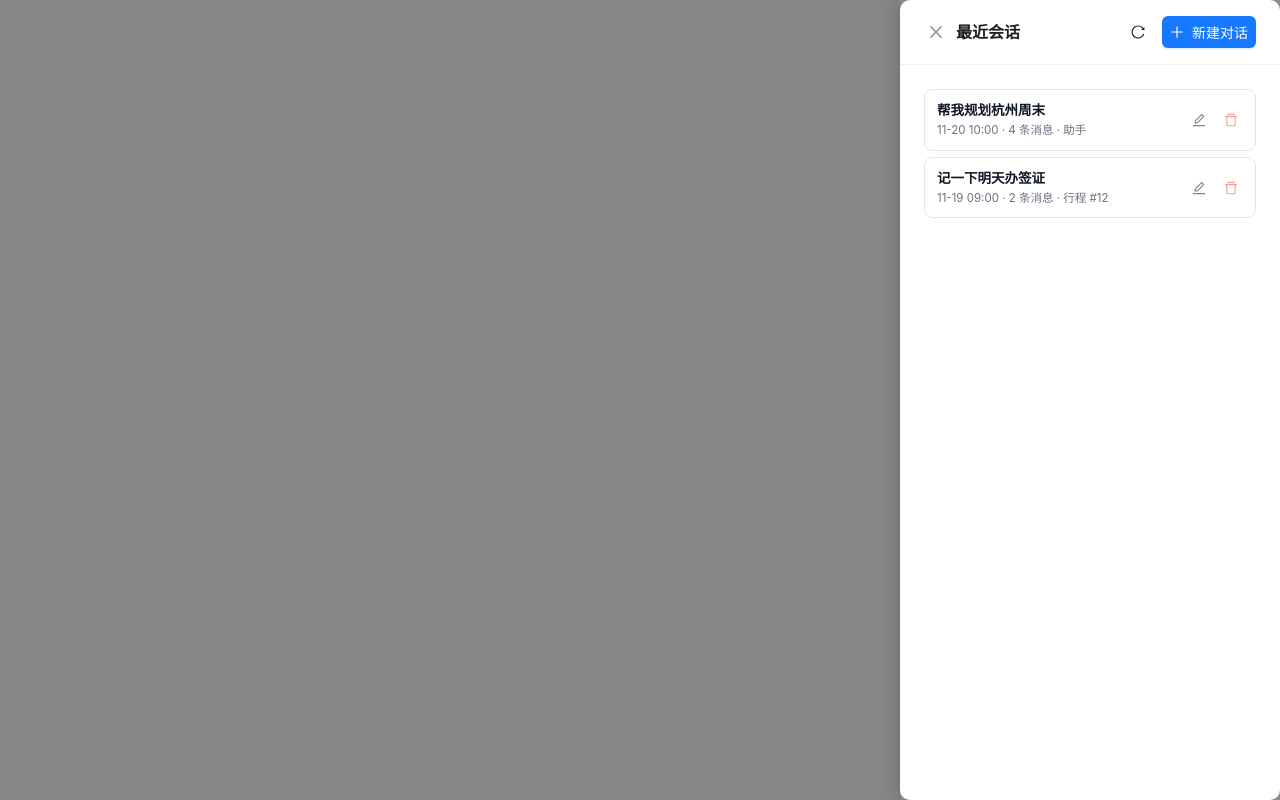
Test: ConversationDrawer · 改名与删除（V23） › 改名：内联输入 → 保存后按服务端结果重新拉列表
Click the button named "重命名「帮我规划杭州周末」".
click(1199, 120)  # box [1183,104,1215,136]
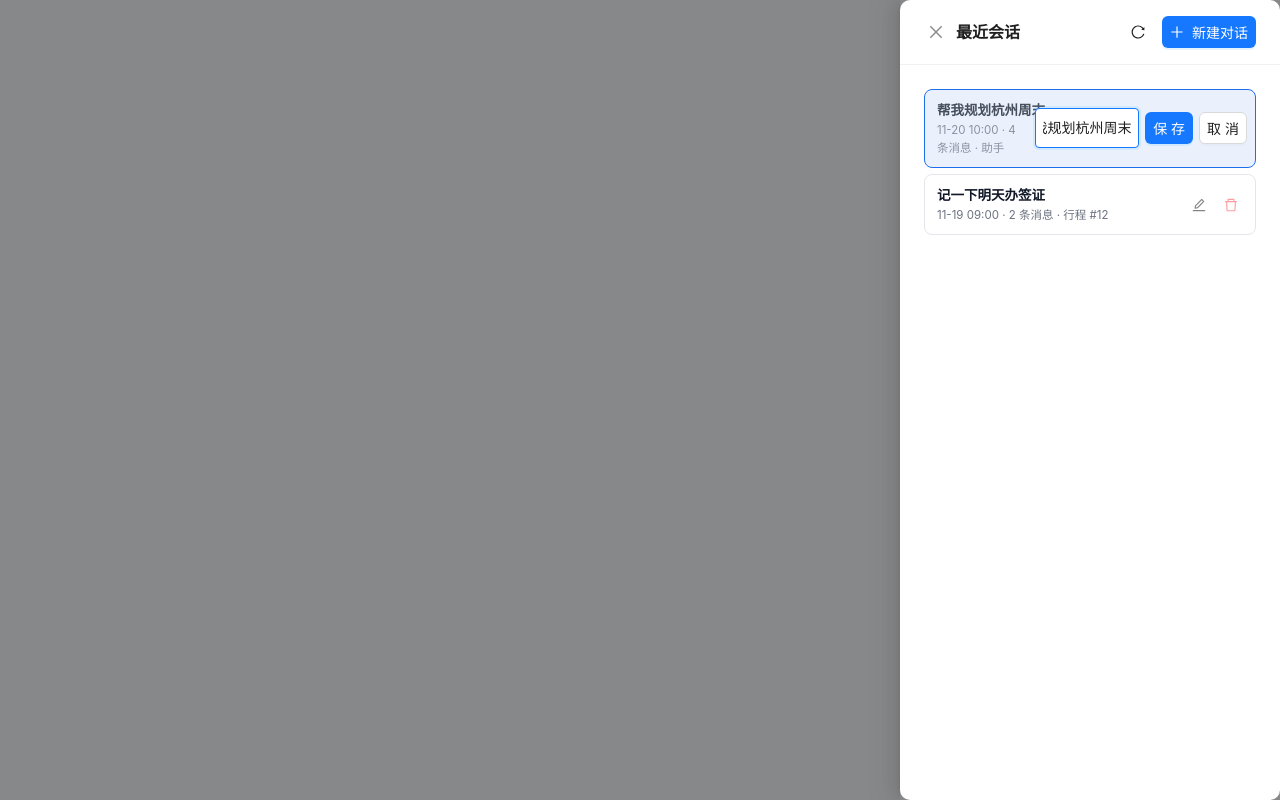
Expected: the field named "会话名称" holds "帮我规划杭州周末"
Replace the text in the field named "会话名称" with "杭州两日游" at [1087, 128], box [1035,108,1139,148]
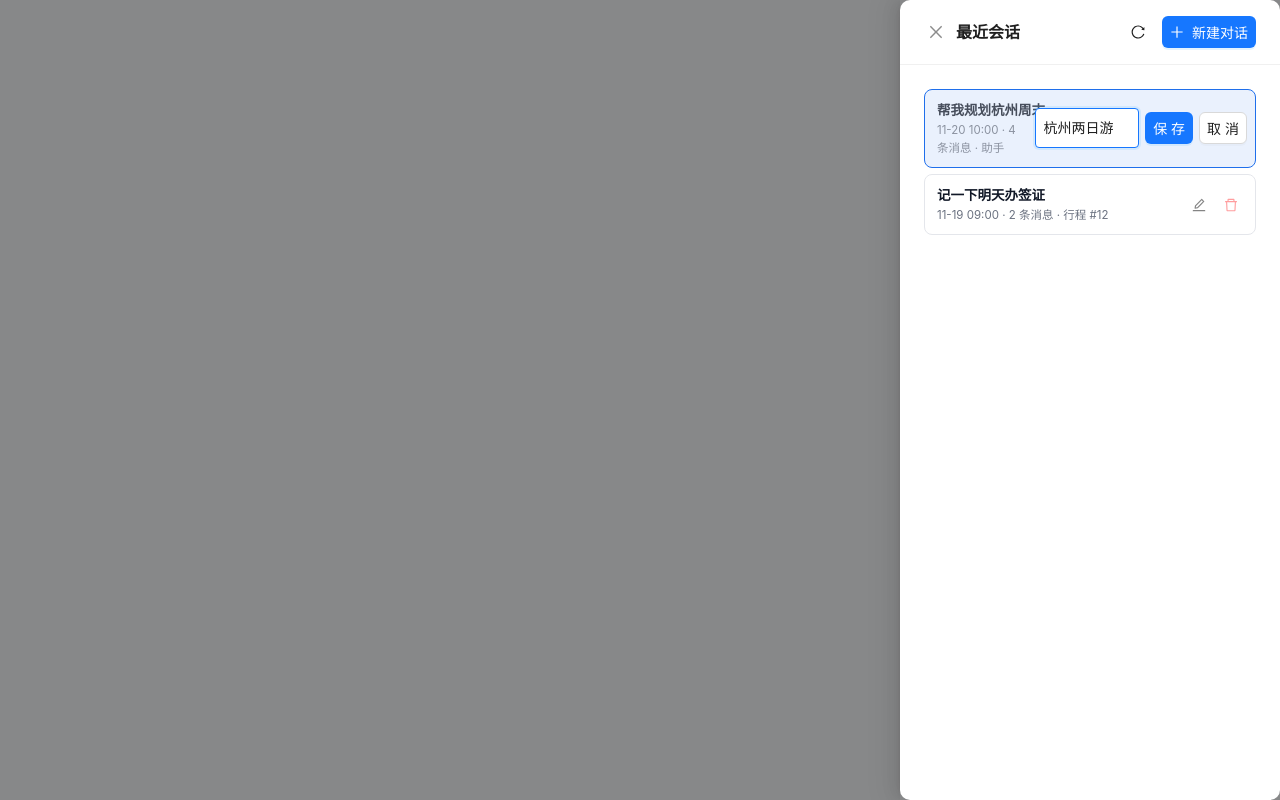
Click the button "保 存".
click(1169, 128)  # box [1145,112,1193,144]
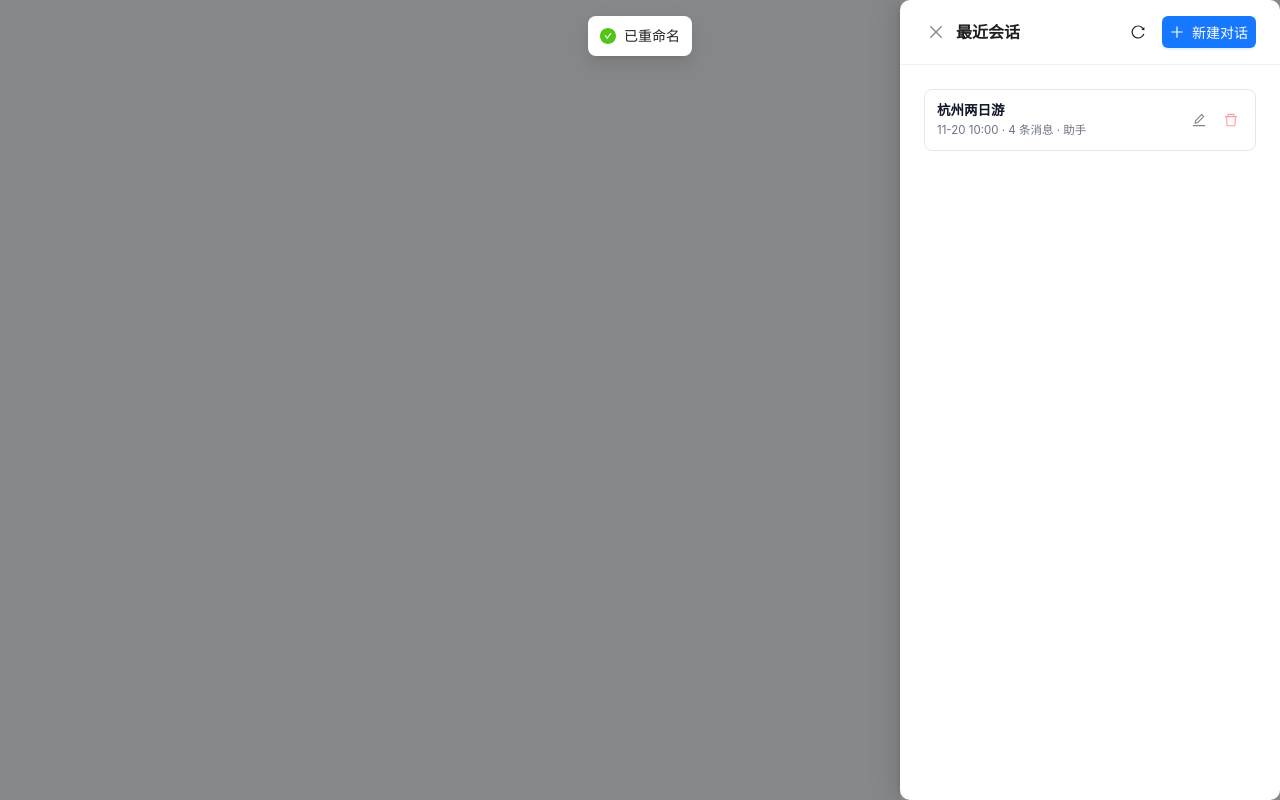
Expected: the text "杭州两日游" is shown, [937,100,1004,120]
